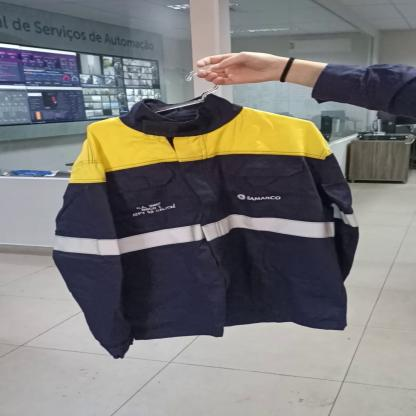C_eletrica: (50, 93, 368, 358)
